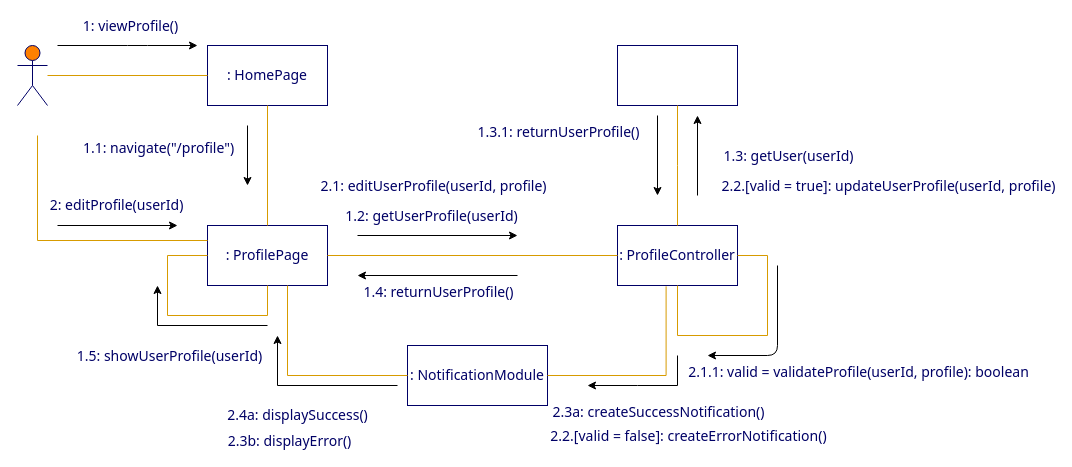
Some shapes in this 1072 by 467 pixel diagram are drawn without their labels. Here are the shapes that lost their labels. From the top down, the centre of each, then its label:
point (32, 75): User
point (677, 75): : Database
